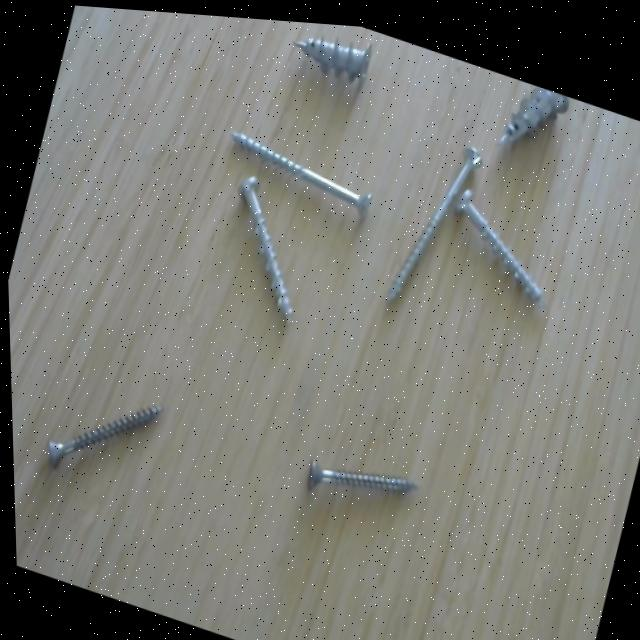Black screw: (29, 364, 168, 504), (292, 431, 424, 529)
Long screw: (375, 115, 492, 321), (216, 103, 387, 222)
Medium screw: (200, 160, 331, 335), (428, 174, 570, 312)
Short screw: (492, 69, 574, 161), (283, 16, 378, 93)
